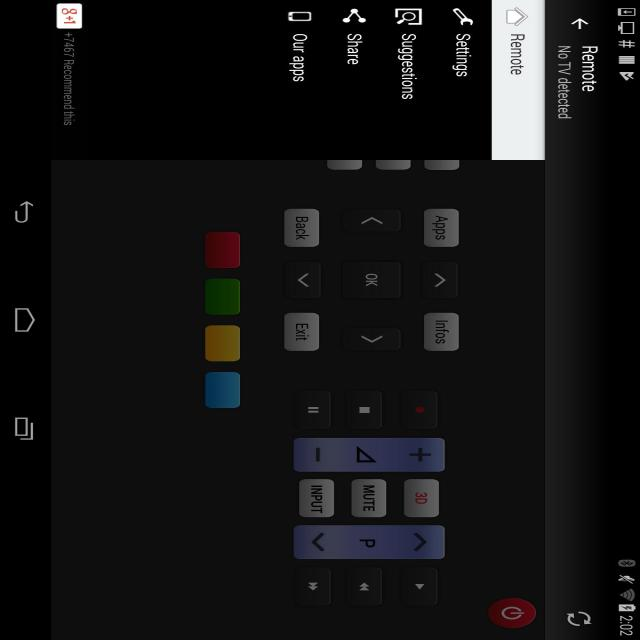button: (439, 2, 492, 159), (383, 3, 436, 159), (492, 0, 543, 161), (276, 0, 327, 159), (331, 1, 381, 160), (300, 436, 446, 476), (297, 525, 444, 559), (486, 598, 534, 628), (206, 372, 242, 411), (286, 209, 320, 249), (286, 312, 320, 352), (299, 389, 331, 431), (425, 312, 457, 352), (428, 206, 458, 248), (351, 266, 396, 294), (410, 566, 440, 608), (300, 481, 334, 518), (288, 263, 322, 299), (405, 389, 437, 427), (205, 280, 238, 316), (208, 326, 240, 361), (407, 480, 438, 516), (350, 327, 400, 349), (425, 262, 457, 296), (350, 392, 380, 428), (354, 481, 384, 516), (353, 574, 382, 610), (210, 232, 240, 266), (301, 574, 330, 608), (563, 605, 596, 634), (357, 210, 395, 232), (567, 15, 592, 36)
heading: (578, 41, 602, 96)
text: (58, 33, 84, 132), (556, 44, 572, 124)
